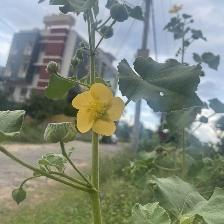indian mallow: (72, 82, 126, 140)
